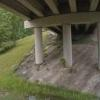Bridge: (10, 2, 93, 55)
